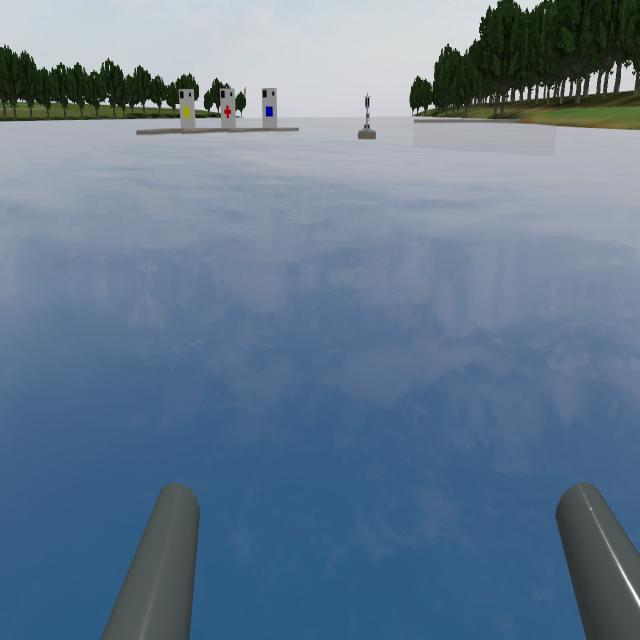black_pole: (360, 88, 376, 116)
